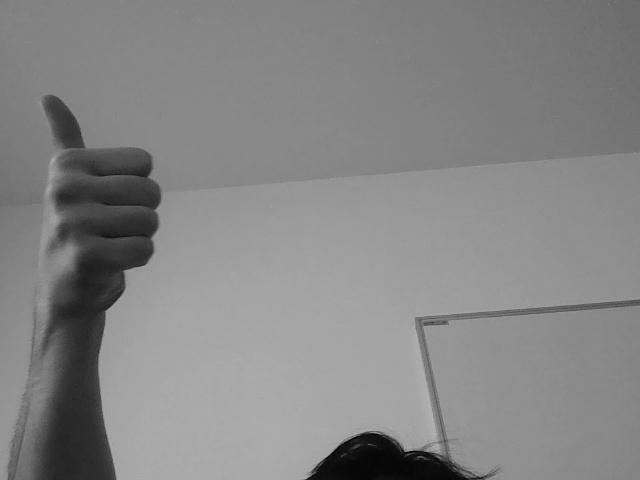friend: (29, 84, 167, 319)
